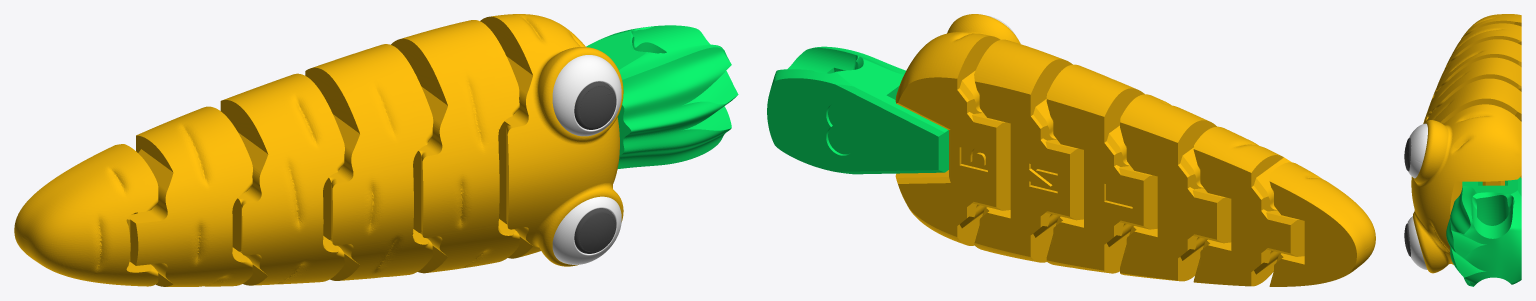
The model's file is babycarrot_customizable.glb.
3 renders of one model, left to right at view 1: azimuth 30°, elevation 25°; view 2: azimuth 150°, elevation 25°; view 3: azimuth 270°, elevation 25°, orthographic. The views are drawn at different scales.
Parts seen in each view (by area): view 1: Carrot_Body_Customizable, Carrot_Top_Customizable, Eyes_White_Locked, Pupils_Black_Locked; view 2: Carrot_Body_Customizable, Carrot_Top_Customizable; view 3: Carrot_Body_Customizable, Carrot_Top_Customizable, Eyes_White_Locked, Pupils_Black_Locked.
Boxes of the visible parts, left/top/right/bottom form: Carrot_Body_Customizable: left=14, top=14, right=623, bottom=286; Carrot_Top_Customizable: left=586, top=25, right=738, bottom=168; Eyes_White_Locked: left=552, top=55, right=621, bottom=264; Pupils_Black_Locked: left=574, top=81, right=616, bottom=253; Carrot_Body_Customizable: left=895, top=14, right=1375, bottom=286; Carrot_Top_Customizable: left=767, top=46, right=948, bottom=174; Carrot_Body_Customizable: left=1411, top=14, right=1521, bottom=273; Carrot_Top_Customizable: left=1446, top=177, right=1521, bottom=286; Eyes_White_Locked: left=1407, top=123, right=1427, bottom=269; Pupils_Black_Locked: left=1404, top=137, right=1411, bottom=256.
Size of the model in its own units: 72.63 by 23.86 by 15.77.
